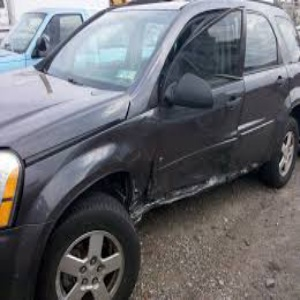door_scratch: (156, 107, 272, 187)
